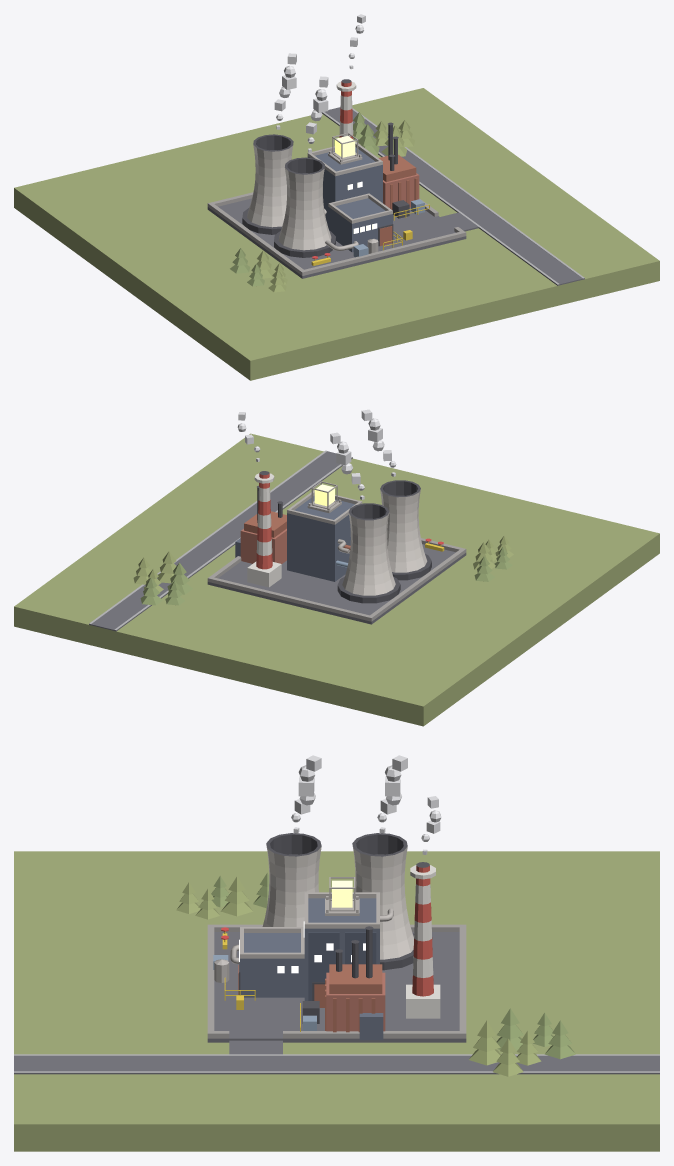
3 renders of one model, top to bottom at view 1: azimuth 30°, elevation 25°; view 2: azimuth 150°, elevation 25°; view 3: azimuth 270°, elevation 25°, orthographic. The views are drawn at different scales.
Visible parts, largest first — view 1: Terrain, CoolingTowers, Building, Platform, Road, Trees, Boiler, Chimney, Props; view 2: Terrain, CoolingTowers, Platform, Building, Road, Trees, Chimney, Boiler; view 3: Terrain, Road, Platform, Building, CoolingTowers, Trees, Boiler, Chimney, Props.
Boxes of the visible parts, x1,y1,x2,y2 form: Terrain: (14, 88, 659, 380); CoolingTowers: (242, 134, 335, 257); Building: (307, 132, 393, 252); Platform: (207, 192, 466, 278); Road: (321, 107, 584, 285); Trees: (230, 112, 414, 292); Boiler: (378, 122, 429, 220); Chimney: (336, 79, 356, 139); Props: (311, 230, 412, 265); Terrain: (14, 433, 659, 726); CoolingTowers: (337, 480, 431, 603); Platform: (207, 538, 466, 624); Building: (287, 481, 362, 581); Road: (89, 450, 352, 631); Trees: (133, 536, 513, 605); Chimney: (247, 471, 281, 587); Boiler: (235, 485, 286, 563); Terrain: (14, 851, 659, 1151); Road: (14, 1040, 659, 1074); Platform: (207, 924, 466, 1042); Building: (238, 877, 379, 1007); CoolingTowers: (262, 833, 414, 970); Trees: (176, 873, 575, 1076); Boiler: (300, 926, 385, 1040); Chimney: (406, 862, 440, 1018); Props: (213, 927, 255, 1009).
Bounding box in the file's own units: 60 × 26.31 × 60.
